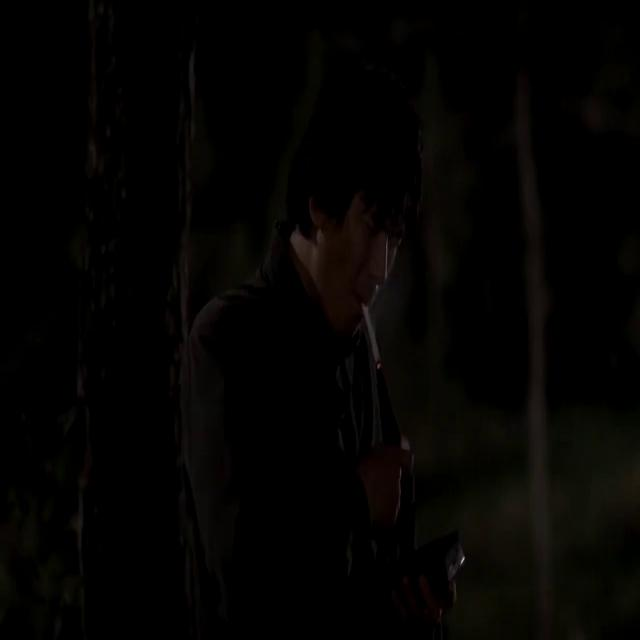Smooking: (358, 289, 386, 374)
